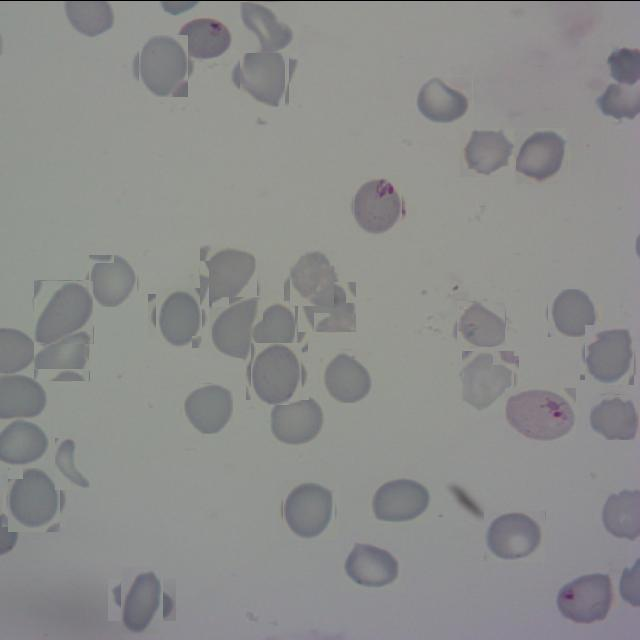leukocyte: (34, 279, 94, 343), (198, 245, 259, 306), (235, 43, 293, 102), (4, 471, 64, 528), (459, 352, 517, 410), (248, 344, 306, 402), (280, 480, 337, 538), (484, 509, 546, 561), (212, 295, 264, 357), (582, 326, 638, 382), (136, 36, 192, 92), (369, 475, 434, 523), (238, 0, 298, 52), (320, 348, 376, 402), (298, 280, 357, 331), (114, 572, 169, 626), (341, 541, 402, 589), (515, 128, 569, 182), (414, 74, 473, 123), (152, 290, 205, 344), (34, 330, 90, 380), (268, 395, 324, 444), (460, 128, 516, 176), (182, 383, 233, 433), (88, 255, 138, 305), (287, 252, 337, 302), (254, 306, 304, 354), (547, 288, 596, 336), (588, 394, 640, 439), (456, 300, 506, 346), (55, 437, 94, 489)
red blood cell: (505, 387, 576, 440), (350, 178, 406, 234)
